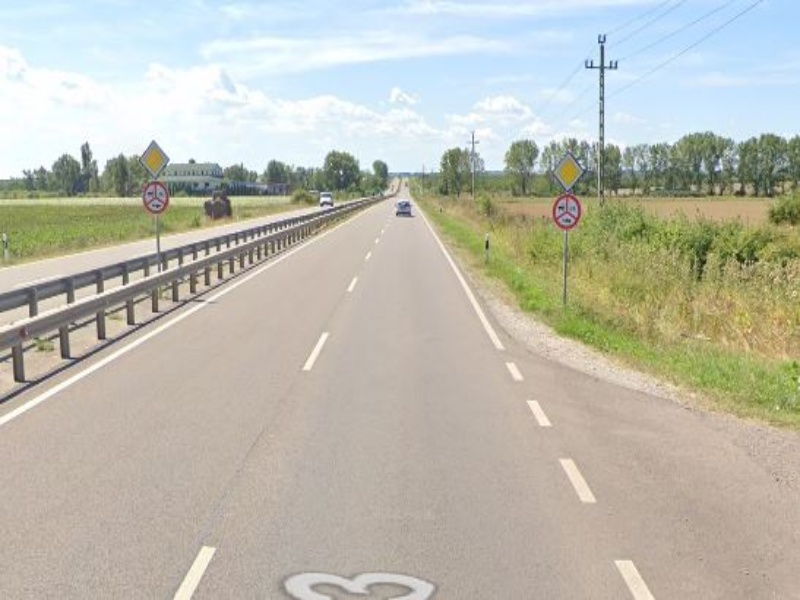fout: (554, 152, 588, 193), (138, 141, 169, 177)
